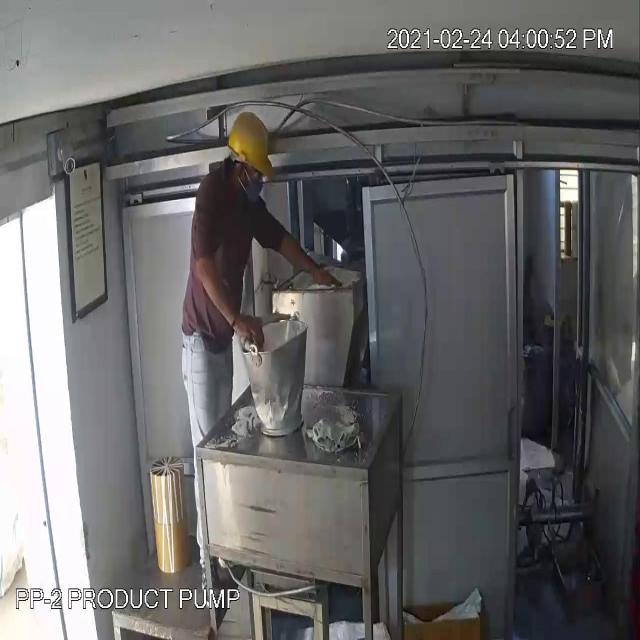helmet: (228, 106, 276, 178)
